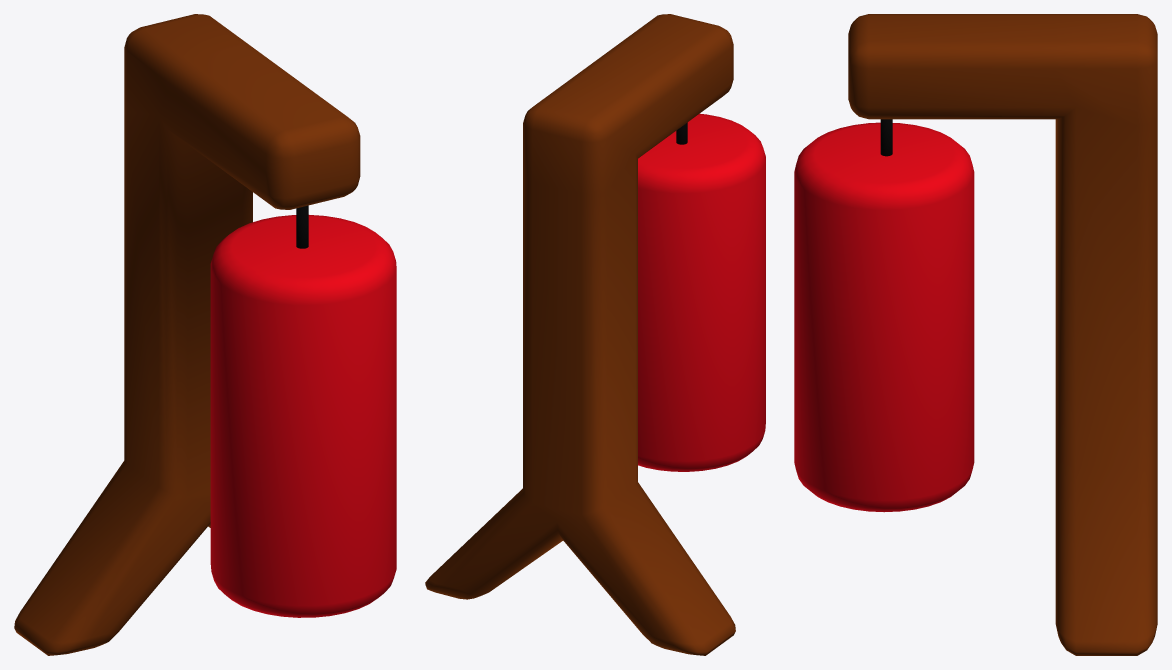
The model's file is PunchingBag.fbx.
The picture shows the model from 3 angles, left to right: view 1: azimuth 30°, elevation 25°; view 2: azimuth 150°, elevation 25°; view 3: azimuth 270°, elevation 25°; orthographic projection. The views are drawn at different scales.
Parts seen in each view (by area): view 1: Stand, Cylinder; view 2: Stand, Cylinder; view 3: Stand, Cylinder.
Boxes of the visible parts, <box> form: Stand: <box>14,14,360,655</box>; Cylinder: <box>210,215,396,617</box>; Stand: <box>425,14,735,655</box>; Cylinder: <box>638,113,765,471</box>; Stand: <box>848,14,1157,655</box>; Cylinder: <box>794,122,974,512</box>.
Size of the model in its own units: 1.73 by 3 by 1.78.
